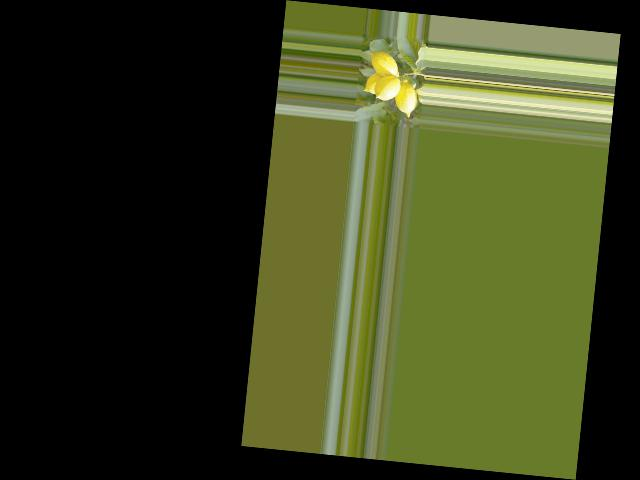lemon: (358, 69, 392, 100)
